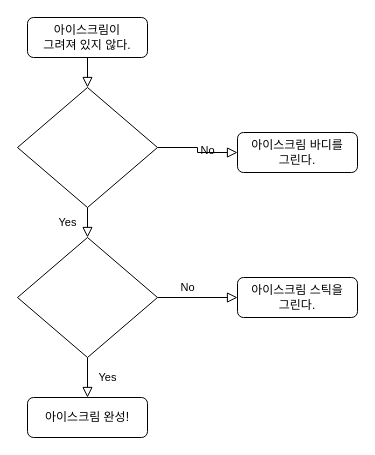
Image size: 375x455. Some labels were removed from this diagram. The centre of each missing label's shape, as x and y in pixels:
"아이스크림 바디가 그려져 있는가?" goes at point (87, 147).
"아이스크림 스틱이 그려져 있는가?" goes at point (87, 297).
